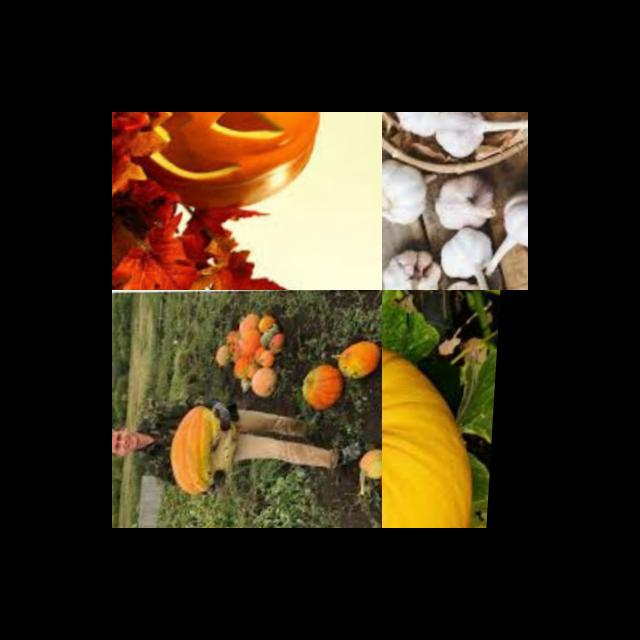garlic: (433, 180, 509, 240), (443, 219, 504, 290), (382, 154, 434, 227), (382, 242, 457, 290), (434, 112, 503, 155), (500, 185, 528, 255), (396, 112, 460, 140)
